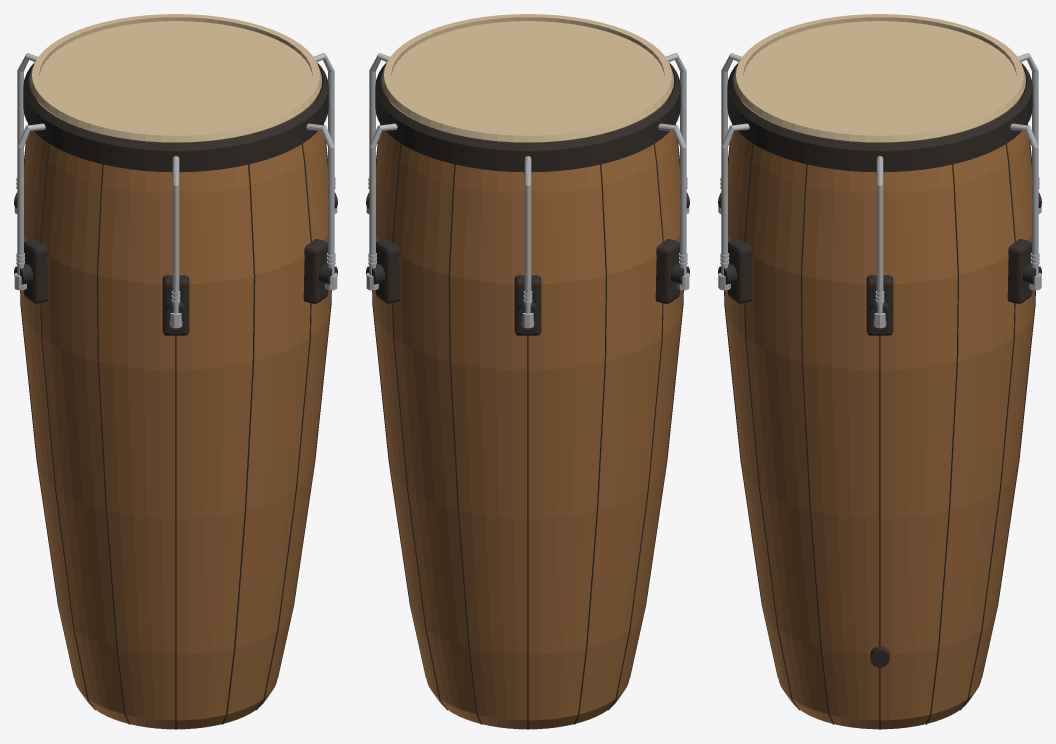
File: full.glb
The picture shows the model from 3 angles, left to right: view 1: azimuth 30°, elevation 25°; view 2: azimuth 150°, elevation 25°; view 3: azimuth 270°, elevation 25°; orthographic projection.
Visible parts, largest first — view 1: Open bottom hollow stave shell, Taut circular head, Thick dark tension hoop, Rolled skin edge, Angular side lug 5, Angular side lug 3, Hooked tension rod 4, Stave seam 9, Angular side lug 4, Stave seam 7, Hooked tension rod 3, Hooked tension rod 5 (+7 smaller); view 2: Open bottom hollow stave shell, Taut circular head, Thick dark tension hoop, Rolled skin edge, Angular side lug 1, Angular side lug 3, Hooked tension rod 2, Stave seam 3, Angular side lug 2, Stave seam 5, Hooked tension rod 1, Hooked tension rod 3 (+7 smaller); view 3: Open bottom hollow stave shell, Taut circular head, Thick dark tension hoop, Rolled skin edge, Angular side lug 1, Angular side lug 5, Hooked tension rod 0, Angular side lug 0, Stave seam 1, Stave seam 11, Hooked tension rod 1, Hooked tension rod 5 (+7 smaller).
Part boxes in pixels (left/top/right/bottom): Open bottom hollow stave shell: left=21, top=97, right=330, bottom=729; Taut circular head: left=39, top=21, right=312, bottom=132; Thick dark tension hoop: left=23, top=61, right=328, bottom=172; Rolled skin edge: left=29, top=14, right=322, bottom=142; Angular side lug 5: left=303, top=239, right=328, bottom=303; Angular side lug 3: left=23, top=239, right=48, bottom=303; Hooked tension rod 4: left=172, top=156, right=179, bottom=313; Stave seam 9: left=222, top=164, right=255, bottom=724; Angular side lug 4: left=162, top=275, right=189, bottom=335; Stave seam 7: left=97, top=164, right=129, bottom=724; Hooked tension rod 3: left=17, top=123, right=45, bottom=275; Hooked tension rod 5: left=306, top=123, right=334, bottom=275; Open bottom hollow stave shell: left=373, top=97, right=682, bottom=729; Taut circular head: left=391, top=21, right=664, bottom=132; Thick dark tension hoop: left=375, top=61, right=680, bottom=172; Rolled skin edge: left=381, top=14, right=674, bottom=142; Angular side lug 1: left=375, top=239, right=400, bottom=303; Angular side lug 3: left=655, top=239, right=680, bottom=303; Hooked tension rod 2: left=524, top=156, right=531, bottom=313; Stave seam 3: left=448, top=164, right=481, bottom=724; Angular side lug 2: left=514, top=275, right=541, bottom=335; Stave seam 5: left=574, top=164, right=606, bottom=724; Hooked tension rod 1: left=369, top=123, right=397, bottom=275; Hooked tension rod 3: left=658, top=123, right=686, bottom=275; Open bottom hollow stave shell: left=725, top=97, right=1034, bottom=729; Taut circular head: left=743, top=21, right=1016, bottom=132; Thick dark tension hoop: left=727, top=61, right=1032, bottom=172; Rolled skin edge: left=733, top=14, right=1026, bottom=142; Angular side lug 1: left=1007, top=239, right=1032, bottom=303; Angular side lug 5: left=727, top=239, right=752, bottom=303; Hooked tension rod 0: left=876, top=156, right=883, bottom=313; Angular side lug 0: left=866, top=275, right=893, bottom=335; Stave seam 1: left=926, top=164, right=958, bottom=724; Stave seam 11: left=801, top=164, right=833, bottom=724; Hooked tension rod 1: left=1010, top=123, right=1038, bottom=275; Hooked tension rod 5: left=721, top=123, right=749, bottom=275.
Bounding box in the file's own units: 0.348 × 0.6364 × 0.3034.
